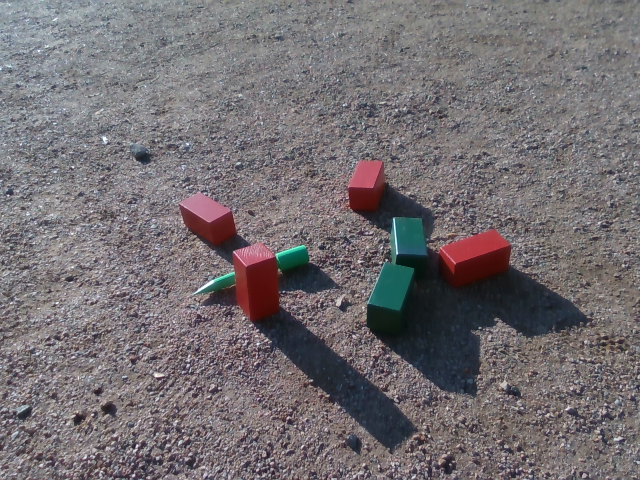Probe: (188, 244, 310, 298)
